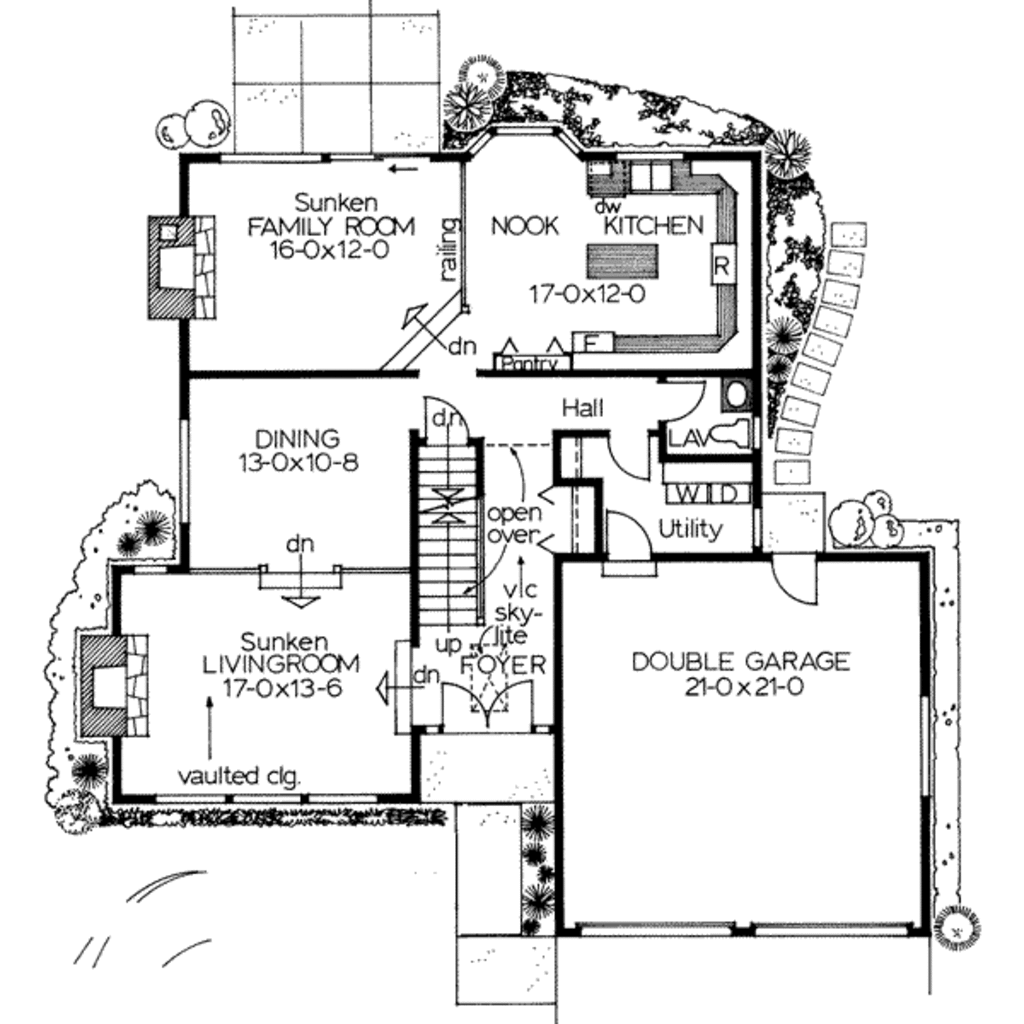door: (594, 499, 672, 585), (434, 677, 542, 739), (603, 421, 666, 486), (770, 538, 825, 611), (666, 375, 711, 421)
large_sink: (700, 416, 759, 457)
small_sink: (723, 372, 756, 410)
stairs: (402, 432, 492, 630), (366, 272, 486, 375), (366, 635, 439, 742), (245, 542, 339, 614)
twin_sink: (623, 150, 681, 210)
window: (150, 785, 381, 811), (570, 913, 747, 941), (464, 122, 584, 160), (214, 139, 419, 161), (169, 414, 205, 524), (759, 917, 917, 941), (914, 700, 944, 805)
